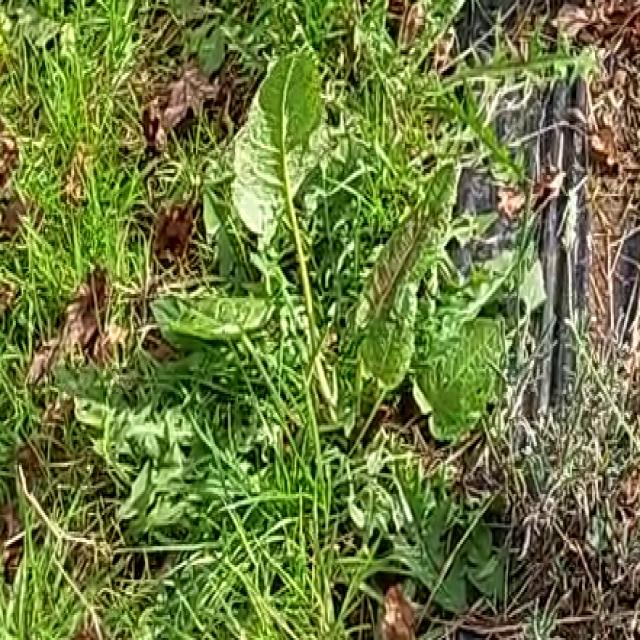organic waste: (128, 37, 518, 540)
